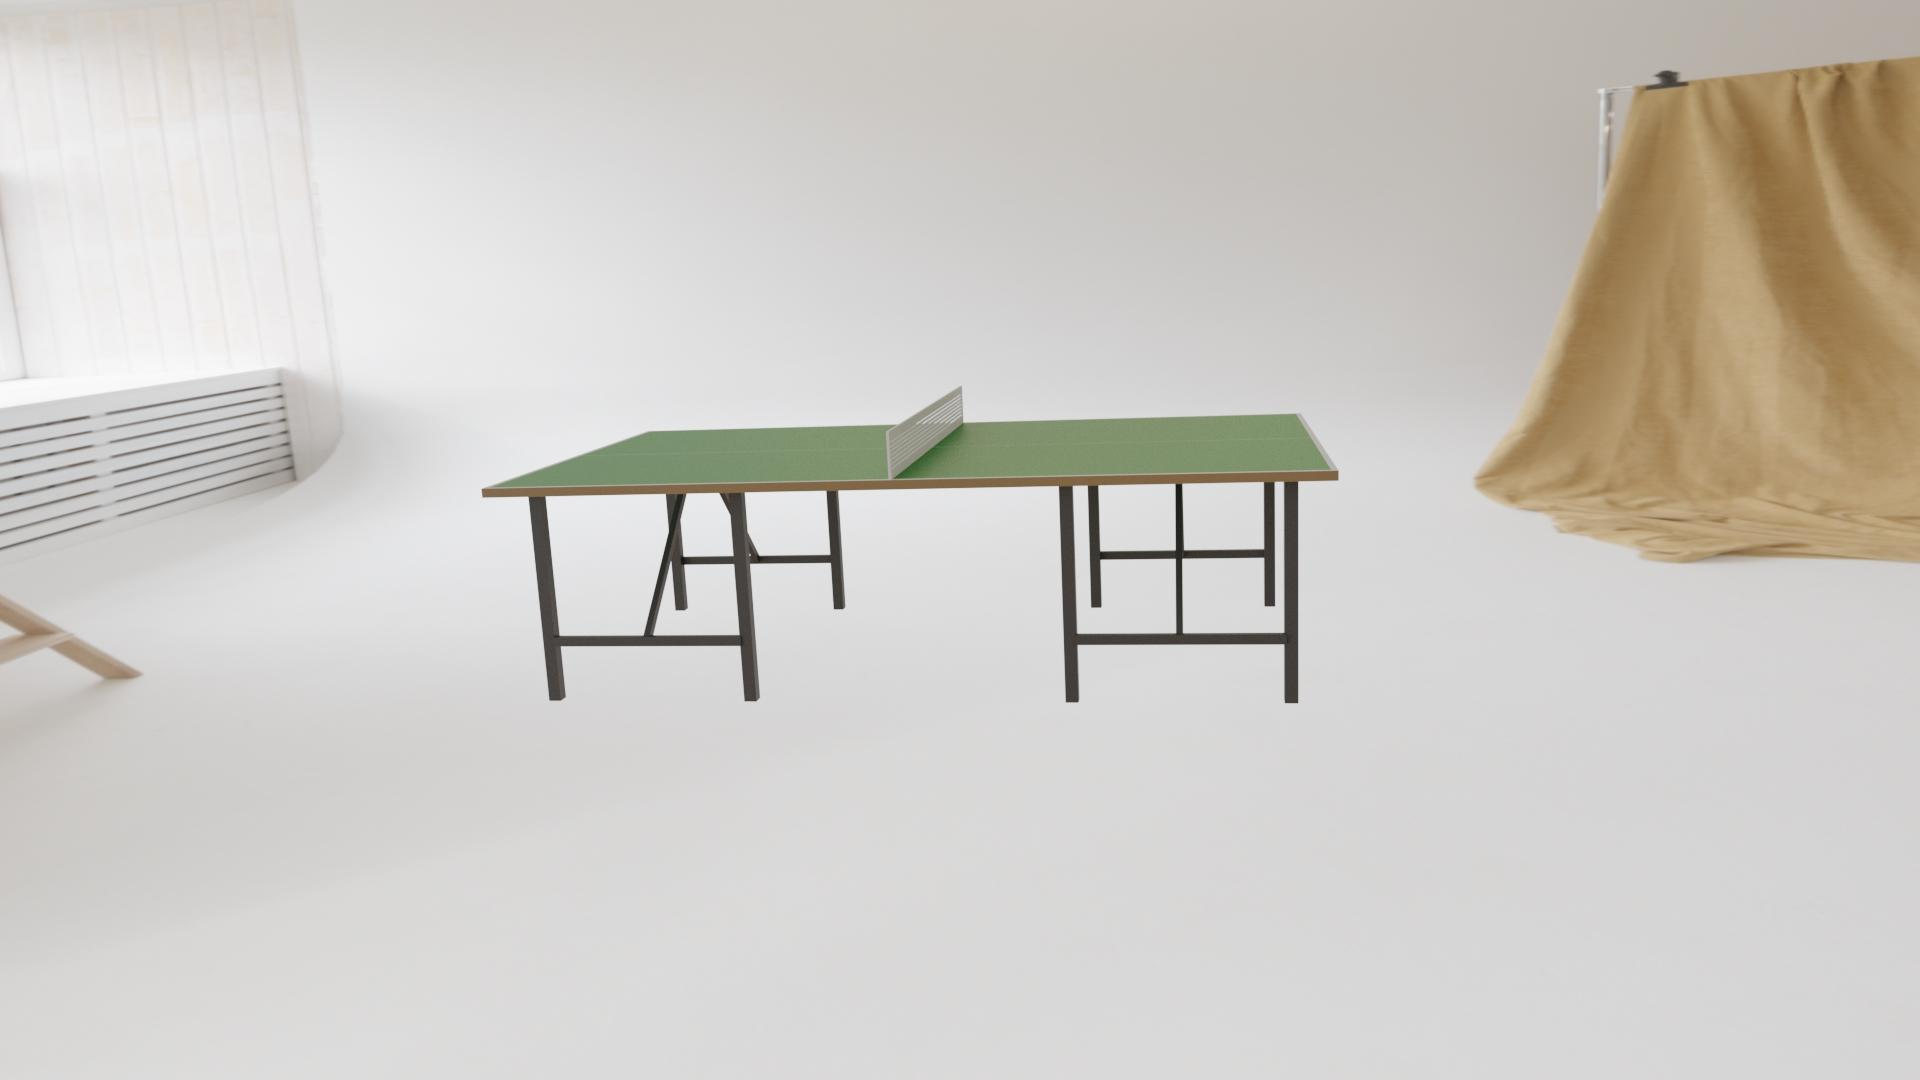table: (489, 414, 1332, 488)
